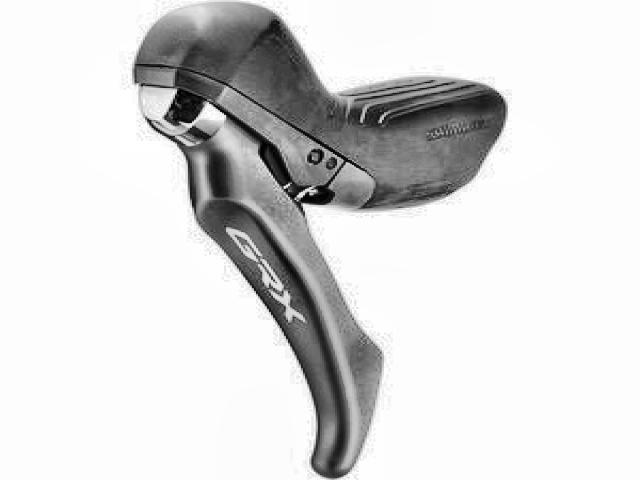sti_shifter: (130, 0, 501, 479)
